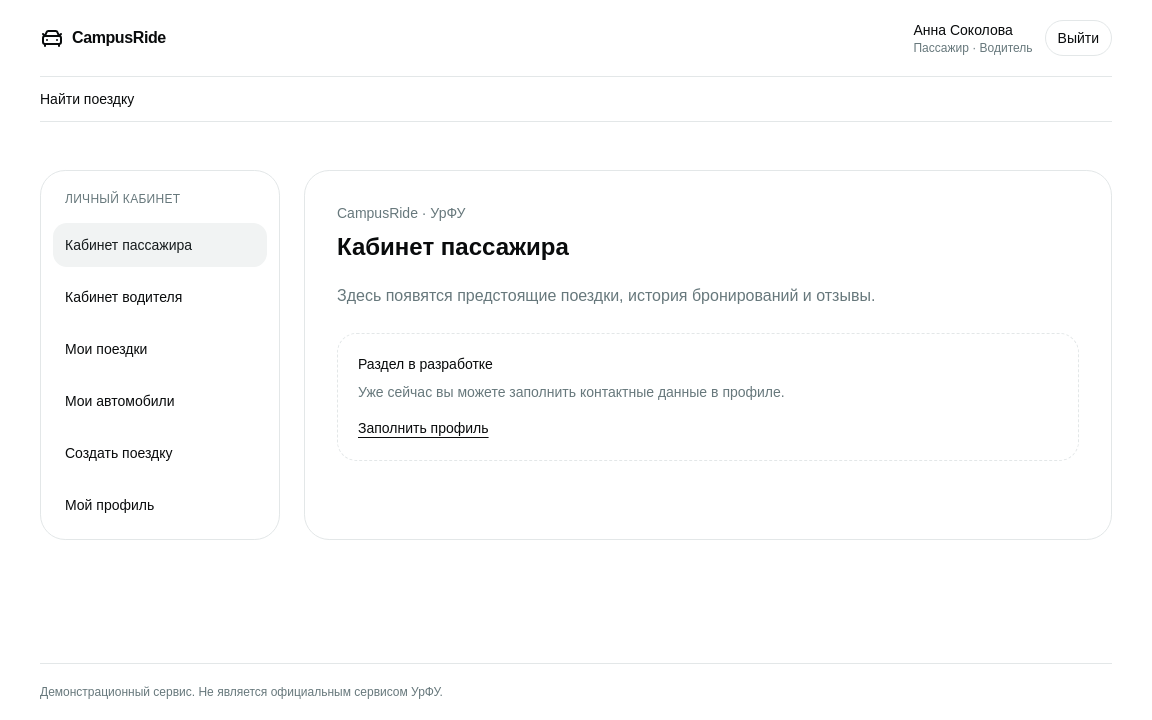
it: Кабинеты и профиль › показывает разделы обеих ролей и переключает кабинеты по ссылкам
Expected: the link "Кабинет пассажира" is shown, [53,223,267,267]
Click the link "Кабинет водителя" at (124, 297), box [65,289,182,305]
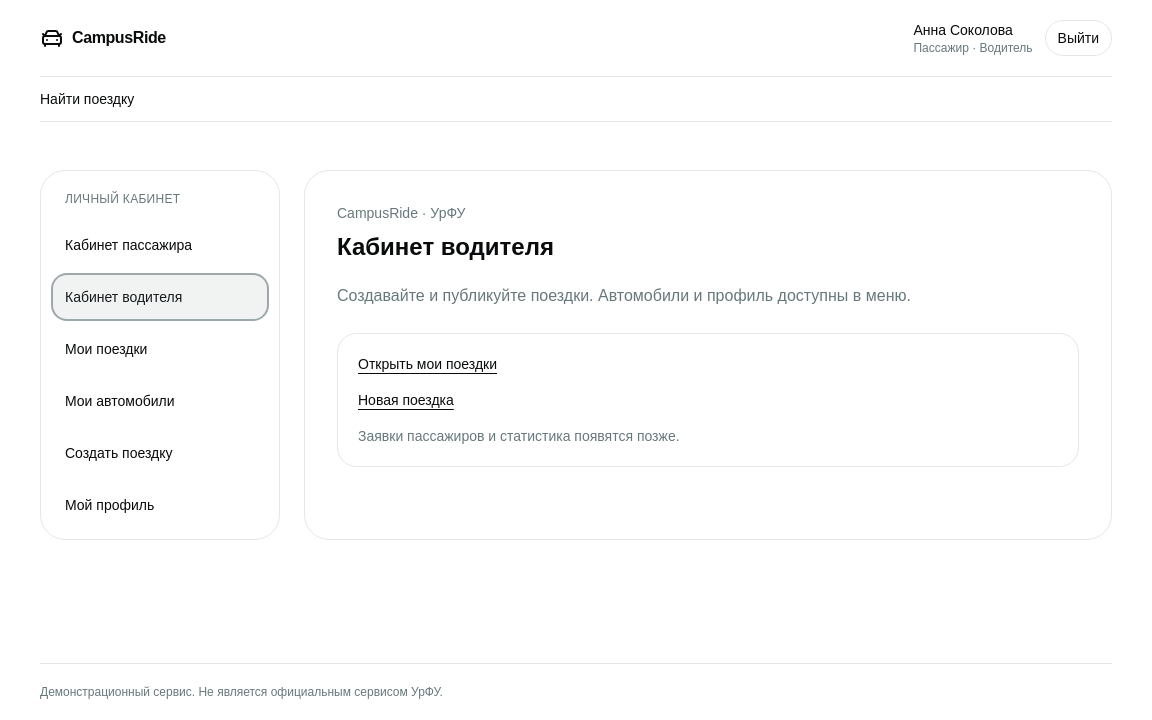
Result: the heading "Кабинет водителя" is shown at [337,233,554,260]
Result: the text "Заявки пассажиров и статистика появятся позже." is shown at [358,428,680,444]
